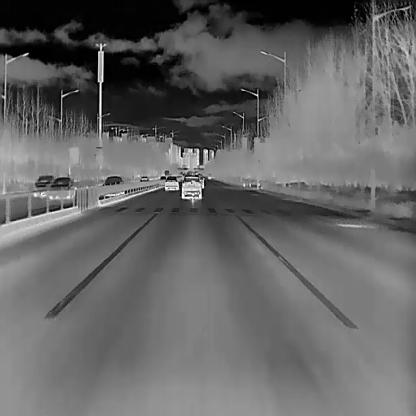car: (47, 175, 75, 200), (181, 174, 202, 199), (32, 173, 54, 196), (101, 174, 123, 184), (164, 175, 178, 190)
